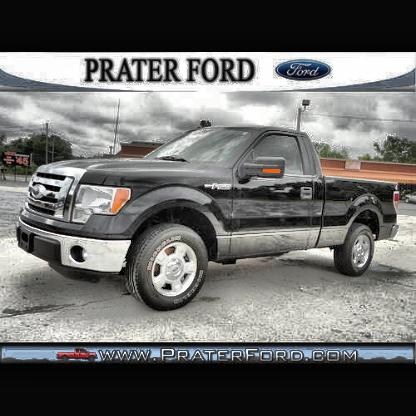Ford F-150 Regular Cab 2012: (17, 129, 402, 312)
